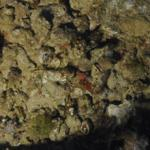dead: (4, 10, 141, 143)
